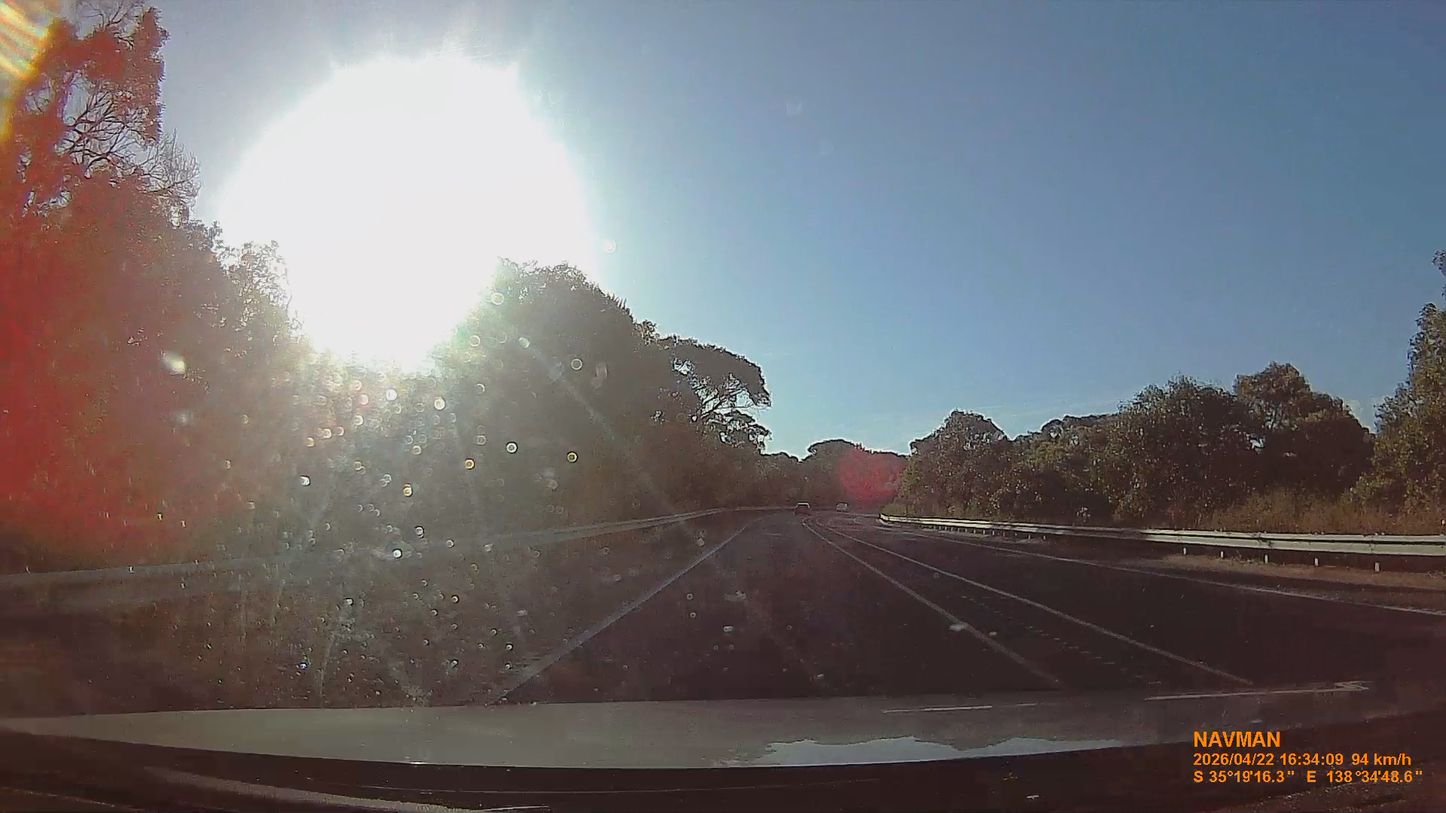road barriers: (883, 515, 1445, 576)
